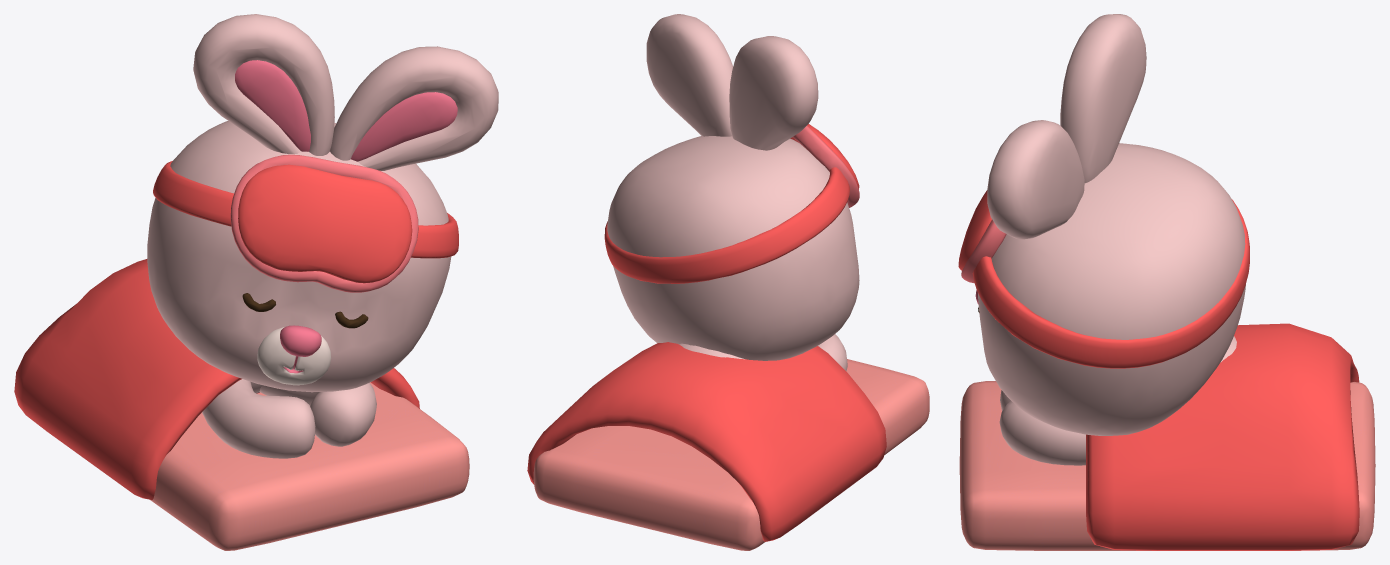
Rendered from capter4_sleeping.glb.
3 views of the same model, side by side, from view 1: azimuth 30°, elevation 25°; view 2: azimuth 150°, elevation 25°; view 3: azimuth 270°, elevation 25° (orthographic). The views are drawn at different scales.
Parts seen in each view (by area): view 1: 0016_primitive0; view 2: 0016_primitive0; view 3: 0016_primitive0.
Boxes of the visible parts, left/top/right/bottom form: 0016_primitive0: left=14, top=14, right=498, bottom=550; 0016_primitive0: left=527, top=14, right=929, bottom=550; 0016_primitive0: left=958, top=14, right=1375, bottom=550.
Bounding box in the file's own units: 2.25 × 3.21 × 2.6.
1 material, 1 textured.
